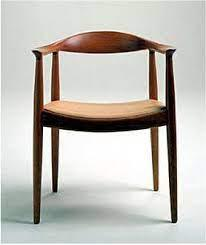chair: (6, 18, 192, 233)
